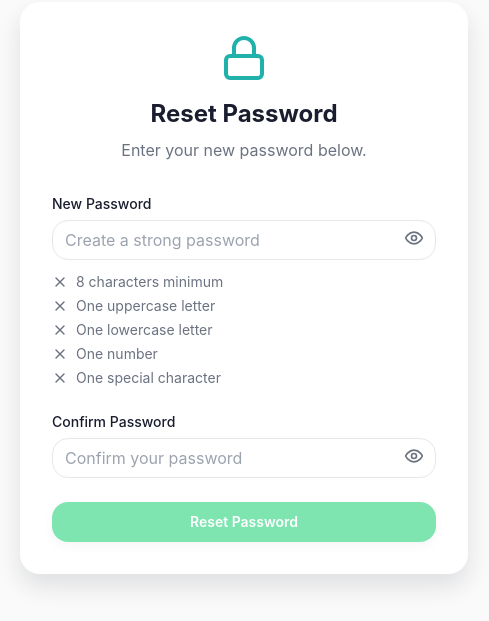
Scenario: TenantResetPasswordPage › Submit › should show success message after successful reset
Type "StrongPass123!" into the password field labelled "New Password". click: (244, 240)
box: [52,220,436,260]
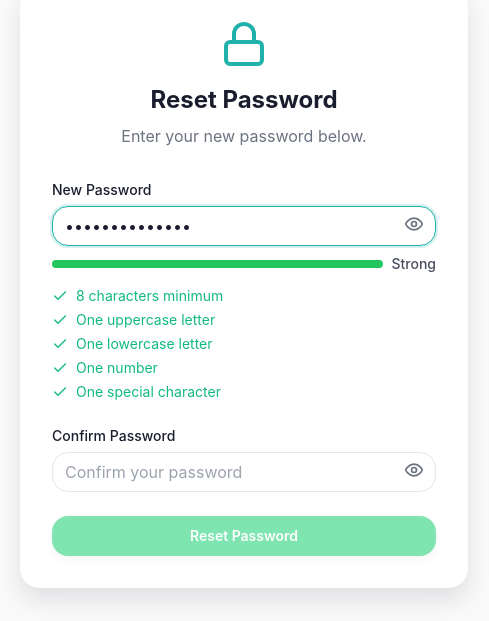
Type "StrongPass123!" into the password field labelled "Confirm Password". click: (244, 472)
box: [52,452,436,492]
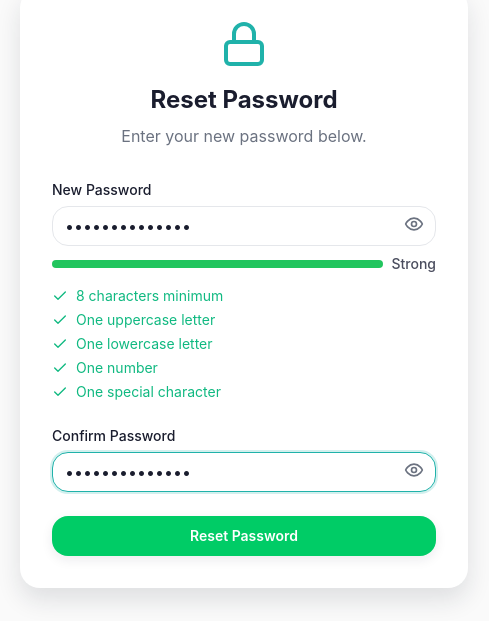
Click the button "Reset Password". click: (244, 536)
box: [52,516,436,556]
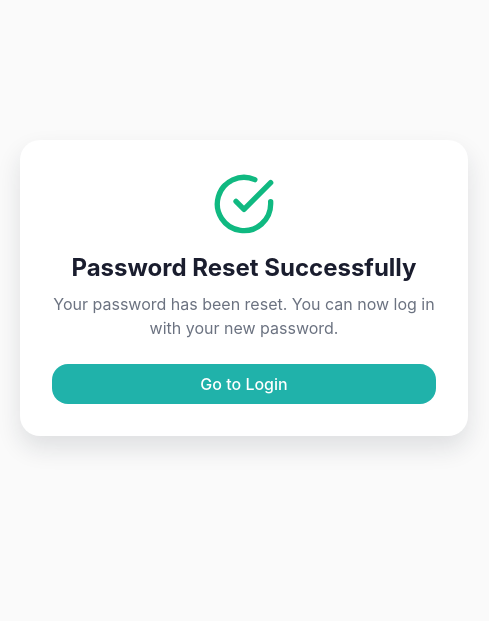
Expected: the heading "Password Reset Successfully" is shown, [52,252,436,284]
